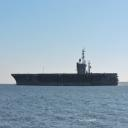Portanaves: (12, 48, 121, 87)
